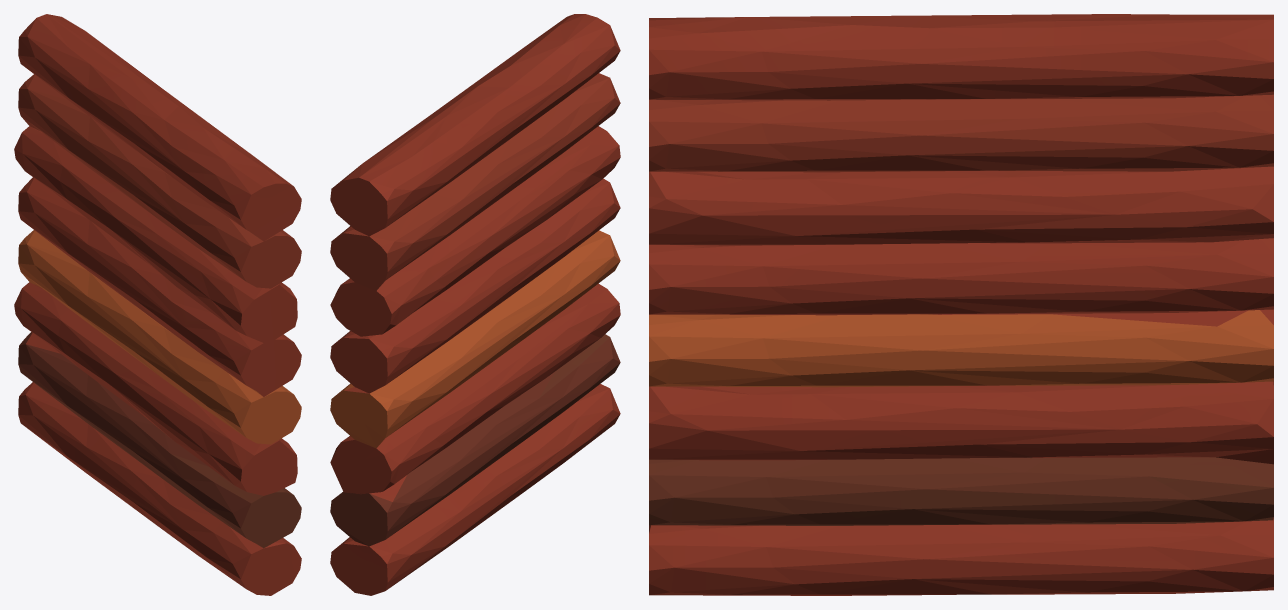
File: Wooden wall_1.fbx
3 views of the same model, side by side, from view 1: azimuth 30°, elevation 25°; view 2: azimuth 150°, elevation 25°; view 3: azimuth 270°, elevation 25° (orthographic). The views are drawn at different scales.
Parts seen in each view (by area): view 1: Wooden wall_1; view 2: Wooden wall_1; view 3: Wooden wall_1.
Boxes of the visible parts, <box> form: Wooden wall_1: <box>14,14,301,595</box>; Wooden wall_1: <box>330,14,620,595</box>; Wooden wall_1: <box>649,14,1273,595</box>.
Bounding box in the file's own units: 0.48 × 3.04 × 3.
